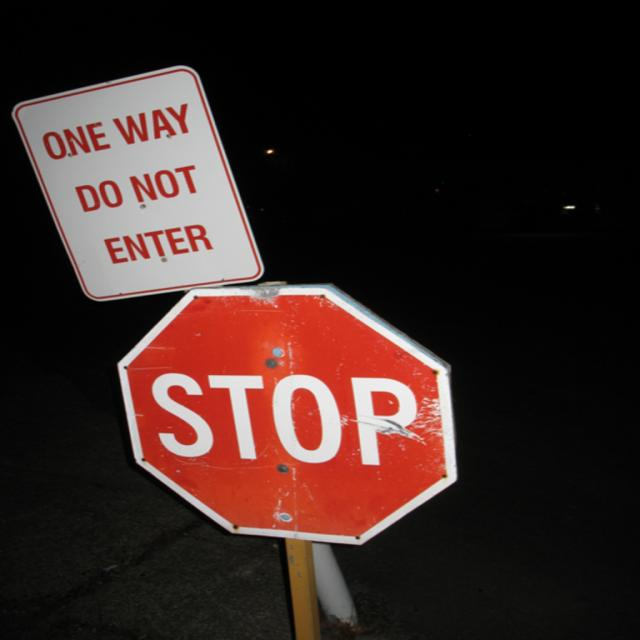Stop-sign: (115, 286, 460, 547)
